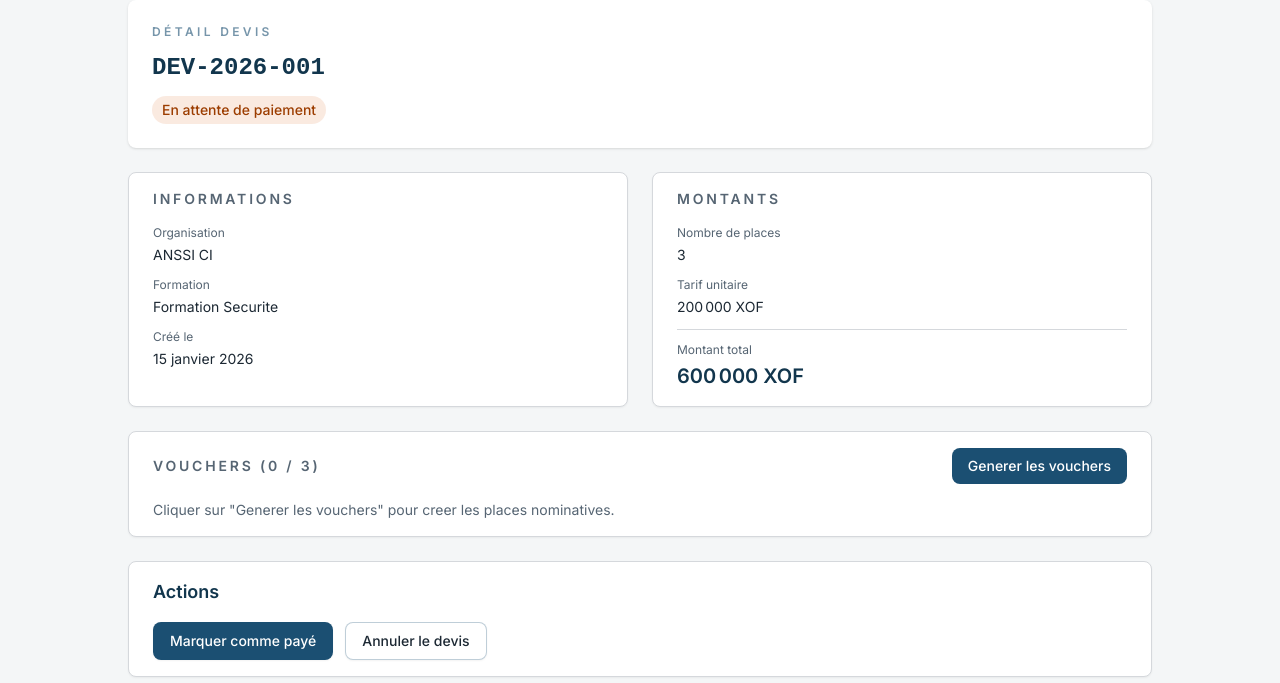
Test case: DevisDetail — actions payer / annuler › affiche le formulaire de confirmation au clic Payer
This screenshot has width=1280, height=683.
Click the button with test id "btn-payer" at x=243, y=641, box [153,622,333,660]
(page scrolled)
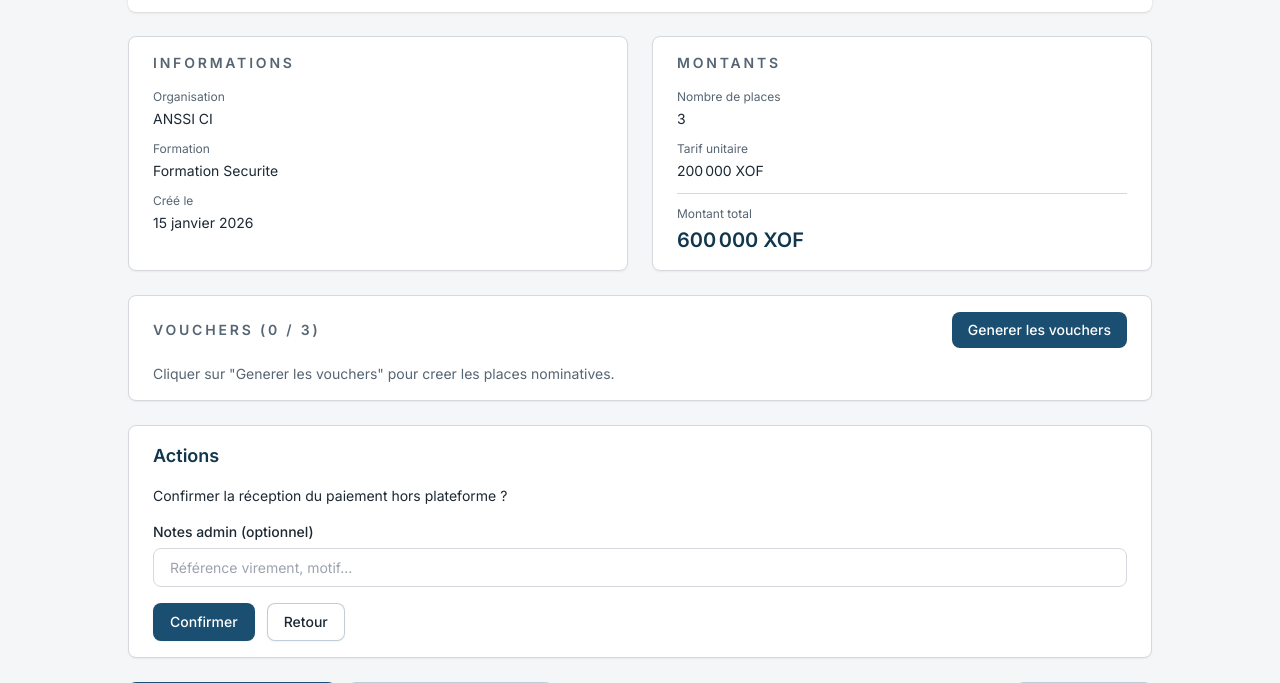
expect the button with test id "btn-confirm-action" is shown: met, box [153,603,255,641]
expect the field with test id "input-notes" is shown: met, box [153,548,1127,587]
